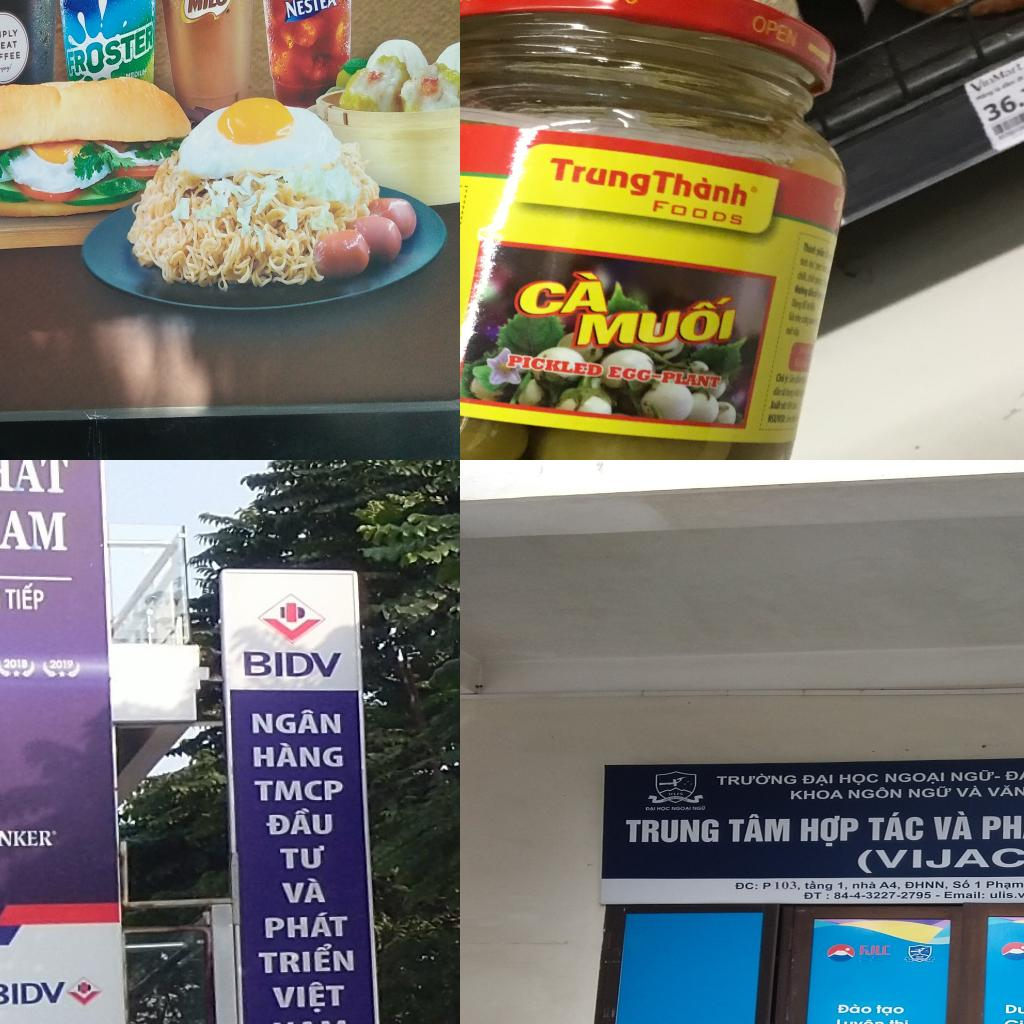text: (574, 292, 740, 351), (508, 264, 613, 322), (65, 20, 155, 82), (855, 844, 1024, 875), (545, 154, 650, 200), (651, 166, 756, 212), (606, 363, 725, 391), (501, 350, 606, 380), (257, 943, 356, 974), (0, 507, 68, 551), (243, 650, 343, 678), (978, 67, 1024, 126), (650, 198, 746, 226), (622, 819, 722, 844), (268, 982, 346, 1014), (251, 708, 342, 735), (252, 742, 344, 768), (0, 460, 70, 494), (264, 912, 351, 939), (747, 13, 805, 52), (254, 780, 346, 802), (798, 815, 859, 847), (266, 808, 335, 836), (969, 59, 1024, 94), (726, 814, 792, 843), (866, 810, 925, 842), (460, 0, 647, 9), (976, 809, 1024, 842), (932, 809, 978, 842), (278, 877, 328, 904), (280, 844, 326, 870), (3, 582, 45, 610), (714, 773, 798, 787), (0, 829, 55, 848), (833, 891, 933, 901), (846, 786, 904, 800), (882, 772, 946, 784), (789, 789, 845, 801), (949, 769, 996, 782), (187, 0, 228, 14), (838, 772, 879, 786), (986, 783, 1024, 797), (908, 786, 952, 798), (904, 879, 949, 890), (800, 773, 836, 786), (858, 944, 894, 956), (837, 1002, 873, 1014), (876, 1003, 906, 1017), (986, 879, 1024, 890), (272, 1019, 349, 1024), (956, 785, 985, 798), (774, 879, 803, 892), (803, 880, 834, 892), (987, 890, 1024, 900), (835, 1017, 886, 1024), (943, 891, 986, 899), (800, 240, 818, 257), (1004, 768, 1024, 783), (803, 891, 832, 901), (4, 658, 29, 669), (764, 413, 788, 424), (49, 659, 75, 669), (0, 51, 21, 63), (1003, 1003, 1024, 1015), (734, 881, 759, 891), (0, 28, 19, 41), (877, 880, 901, 890), (951, 878, 971, 890), (0, 39, 18, 52), (852, 880, 876, 889), (0, 62, 14, 74), (132, 68, 148, 78), (815, 246, 827, 258), (835, 880, 849, 890), (775, 372, 786, 384), (769, 400, 781, 411), (888, 1018, 910, 1024), (1003, 1018, 1024, 1024), (760, 881, 772, 891), (672, 806, 692, 811), (692, 805, 707, 811), (972, 880, 982, 889), (656, 806, 670, 812), (780, 400, 788, 410), (668, 792, 684, 796), (645, 806, 657, 811), (784, 375, 789, 384), (934, 893, 942, 897), (994, 775, 1001, 779)
